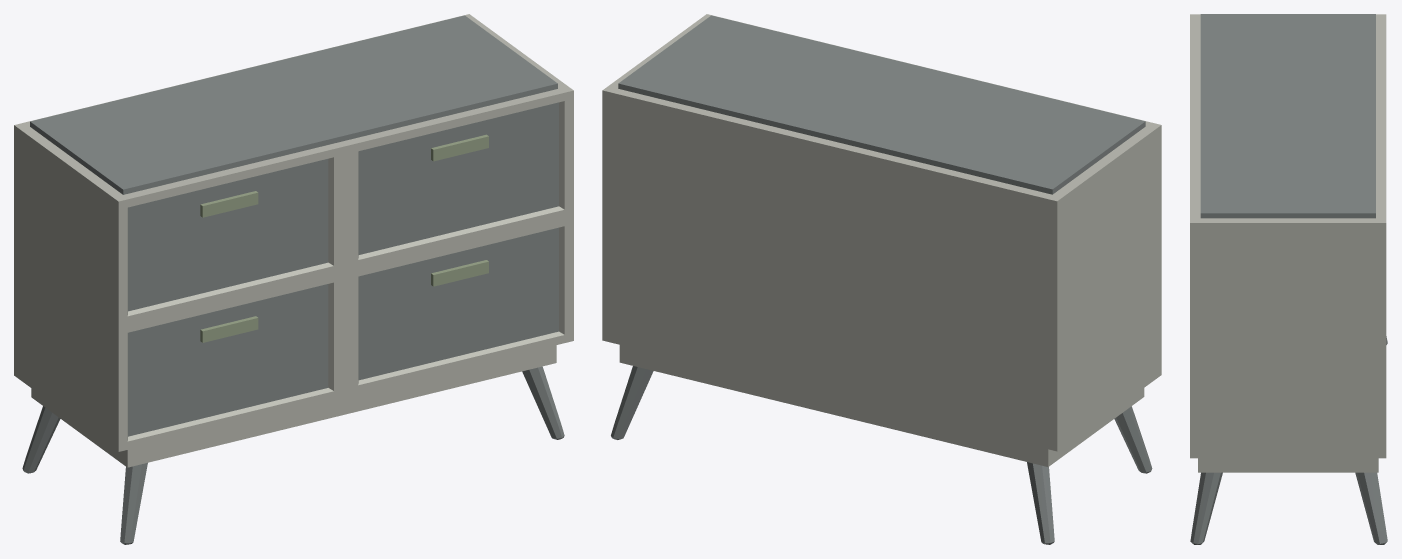
File: drawers_low.glb
3 views of the same model, side by side, from view 1: azimuth 30°, elevation 25°; view 2: azimuth 150°, elevation 25°; view 3: azimuth 270°, elevation 25° (orthographic). The views are drawn at different scales.
Visible parts, largest first — view 1: prop; view 2: prop; view 3: prop.
Boxes of the visible parts, bbox=[...] form: prop: bbox=[14, 14, 573, 544]; prop: bbox=[602, 14, 1161, 544]; prop: bbox=[1190, 14, 1387, 544].
Bounding box in the file's own units: 1.15 × 0.85 × 0.4593.
